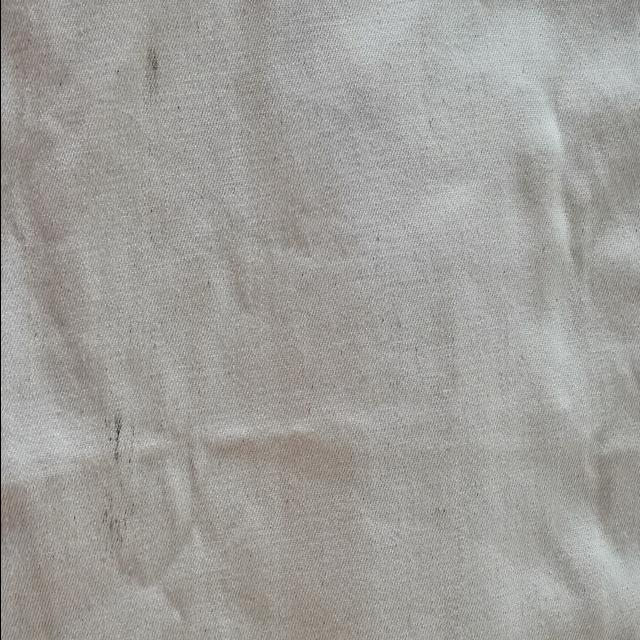taaaches: (100, 412, 142, 594), (135, 29, 174, 120)
